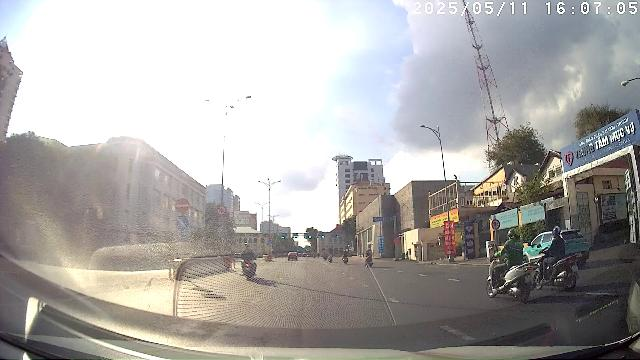124b-cam-oto-quay-dau-xe: (492, 219, 501, 229)
